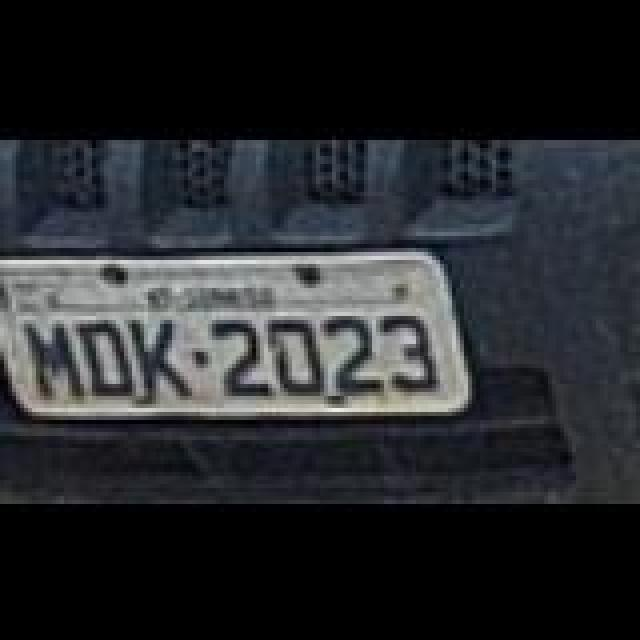2: (208, 316, 272, 396), (324, 312, 388, 392)
3: (382, 312, 442, 392)
D: (72, 316, 136, 396), (270, 318, 330, 394)
K: (124, 314, 196, 398)
M: (26, 316, 86, 396)
